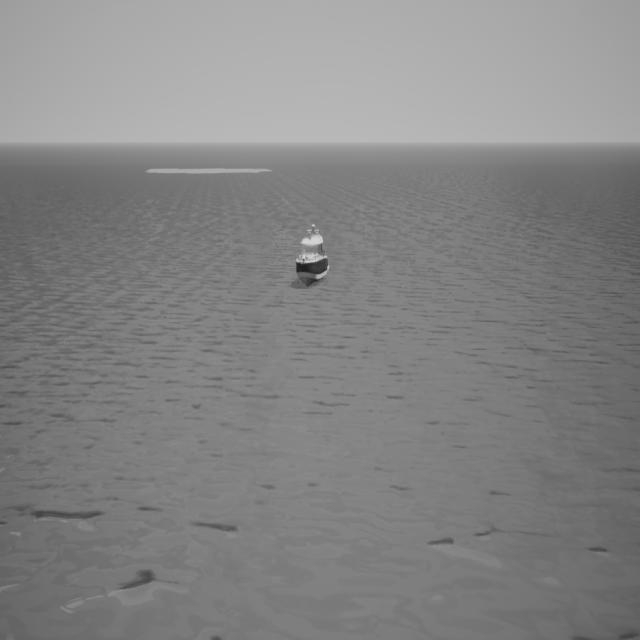ship: (295, 224, 331, 288)
